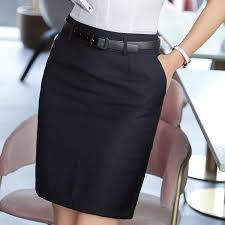F_tailored skirt: (28, 13, 168, 220)
